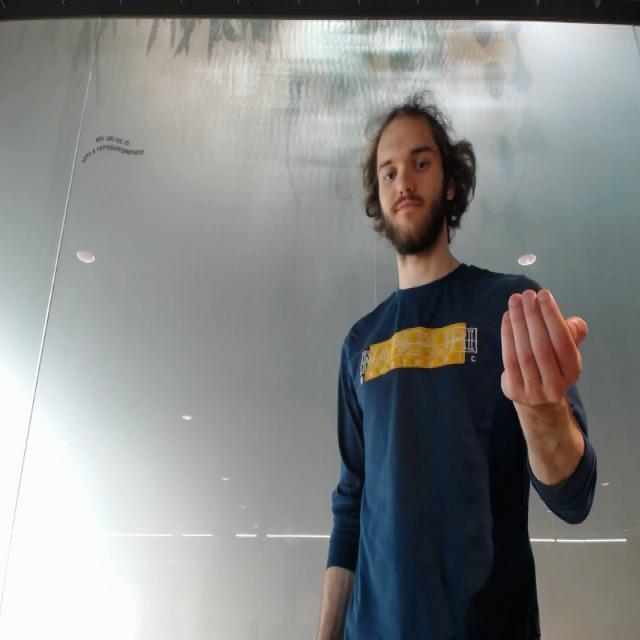forward: (495, 286, 592, 412)
